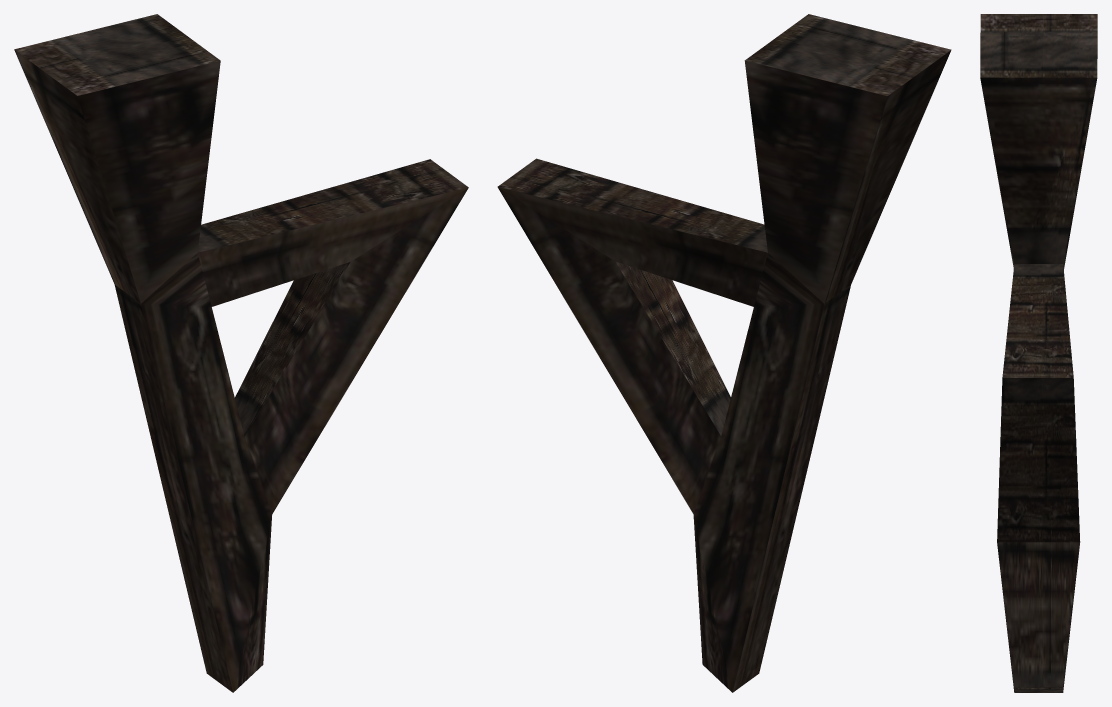
The model's file is torch.DAE.
3 renders of one model, left to right at view 1: azimuth 30°, elevation 25°; view 2: azimuth 150°, elevation 25°; view 3: azimuth 270°, elevation 25°, orthographic. The views are drawn at different scales.
Parts seen in each view (by area): view 1: torch_PIVOT; view 2: torch_PIVOT; view 3: torch_PIVOT.
Boxes of the visible parts, x1,y1,x2,y2 form: torch_PIVOT: (14,14,468,692); torch_PIVOT: (497,14,951,692); torch_PIVOT: (980,14,1097,692).
Size of the model in its own units: 7.08 by 1.94 by 10.96.
